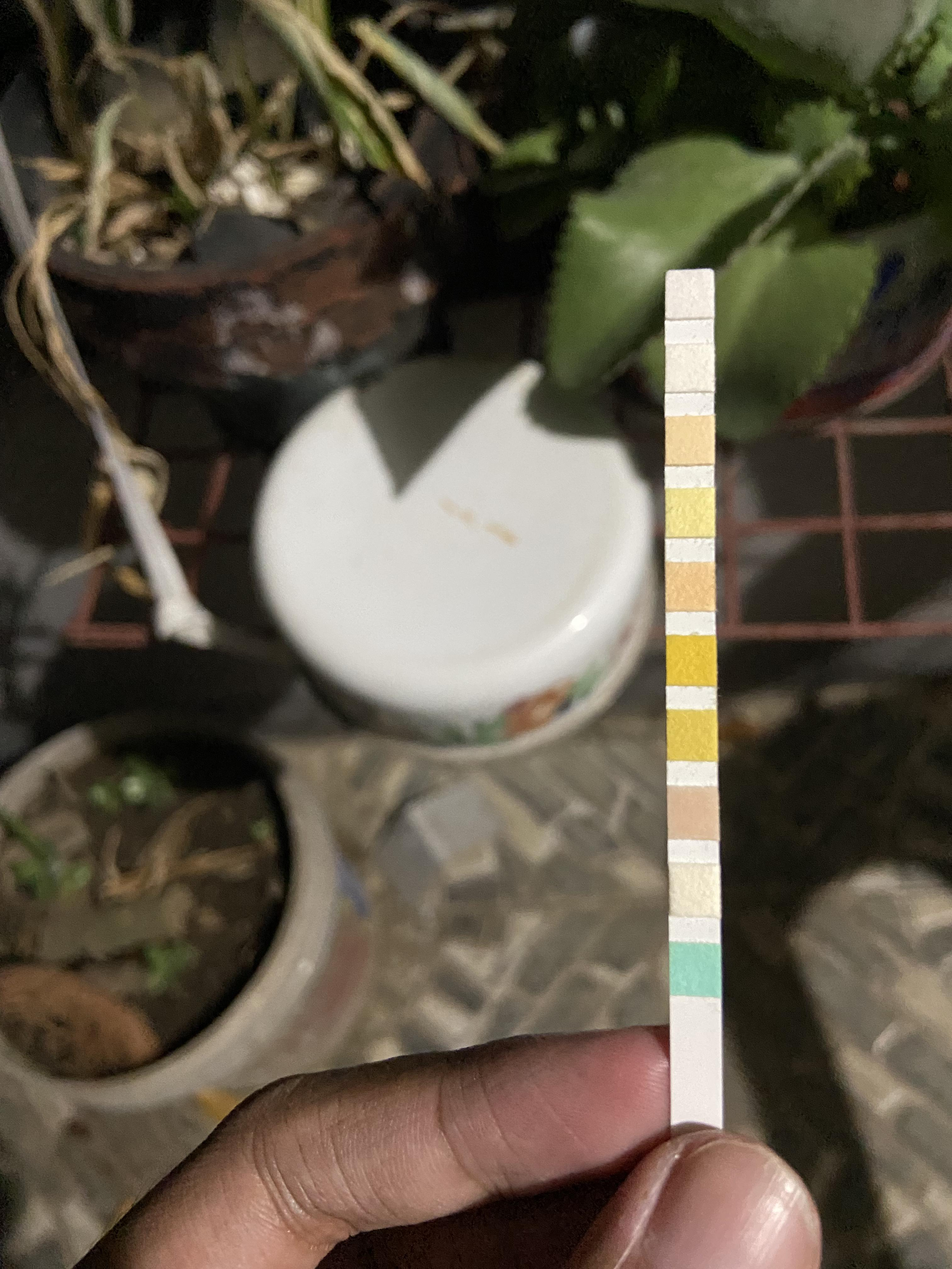Bilirubin: (672, 863, 719, 914)
Blood: (669, 638, 714, 685)
Glucose: (672, 943, 719, 995)
Ketone: (668, 788, 717, 839)
Leukocytes: (668, 272, 712, 320)
Nitrite: (667, 348, 714, 390)
Protein: (668, 488, 712, 536)
SpGravity: (668, 711, 717, 758)
Urobilinogen: (669, 419, 712, 460)
pH: (668, 562, 712, 609)
strip: (665, 269, 724, 1122)
